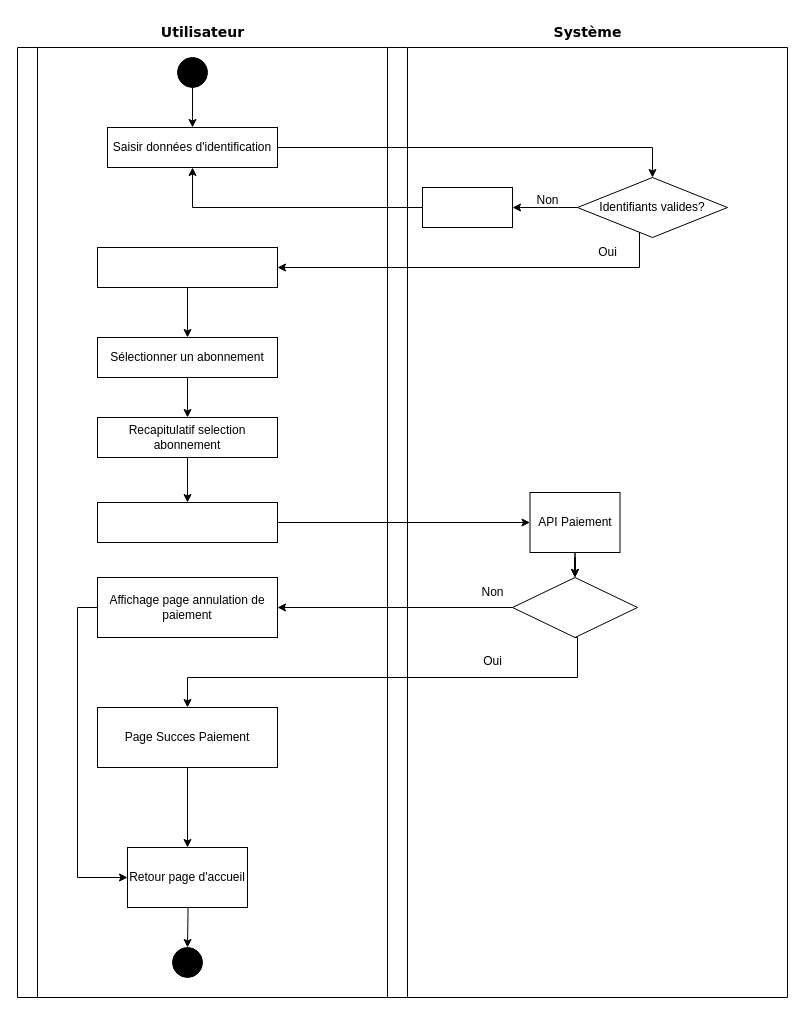
This 805x1015 diagram has some shape labels left out. Here are the shapes that lost their labels. From the top down, the centre of each, then its label:
At point 467,207: "Afficher erreur".
At point 187,267: "Afficher page d'accueil".
At point 187,522: "Confirmer souscription".
At point 575,607: "Paiement validé ?".
